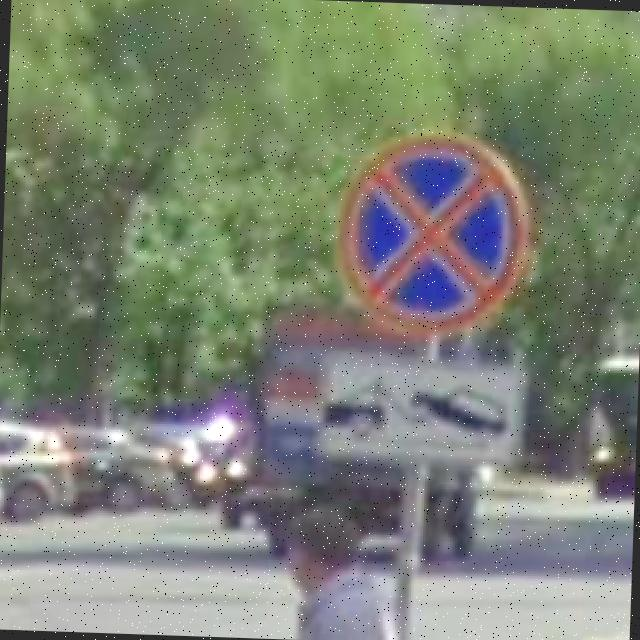Zakaz zatrzymywania sie: (330, 130, 532, 340)
